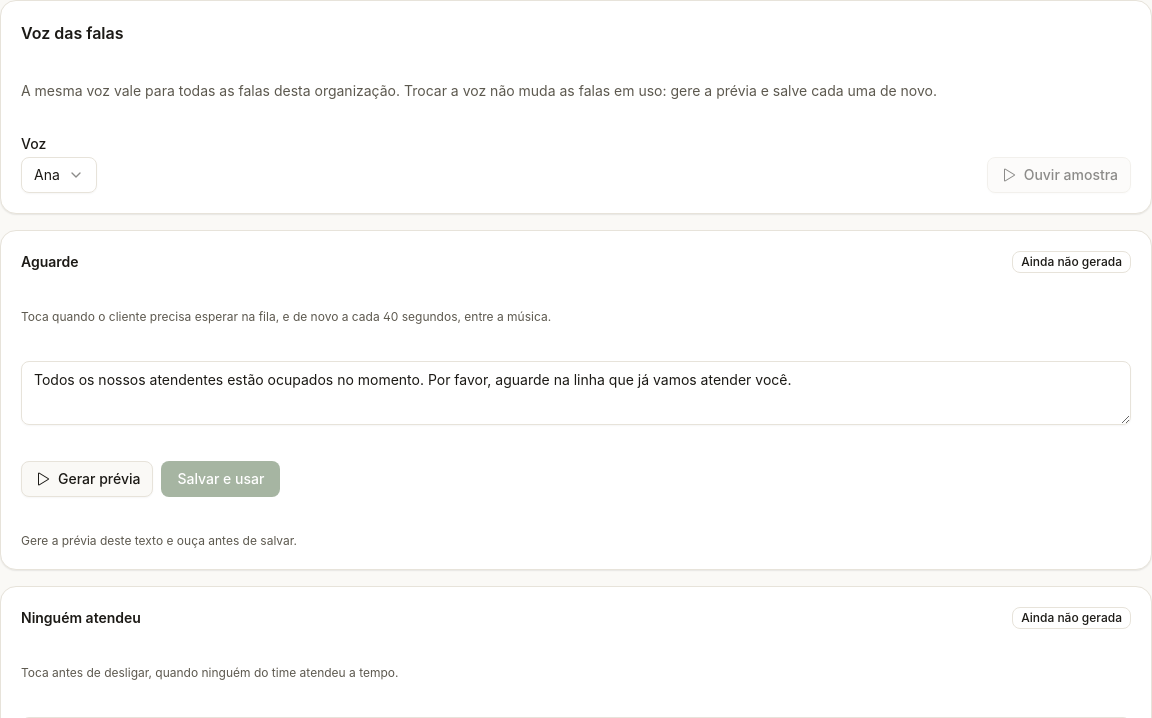
it: aba Voz e falas — gerar prévia, ouvir, salvar e usar › trocar a voz depois da prévia pede prévia de novo (o hash da prévia é da voz anterior)
Click the button "Gerar prévia".
click(87, 479)  # box [21, 461, 153, 497]
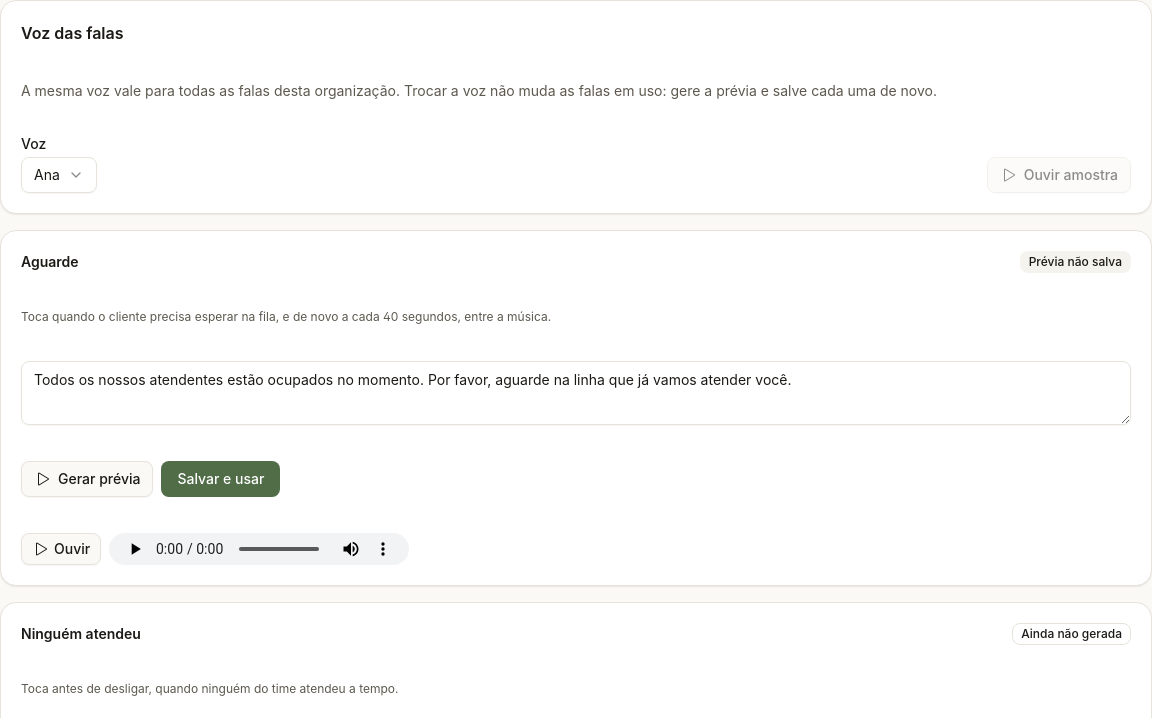
Result: the button "Salvar e usar" is enabled at [161, 461, 280, 497]
Click the dropdown named "Voz".
click(59, 175)  # box [21, 157, 97, 193]
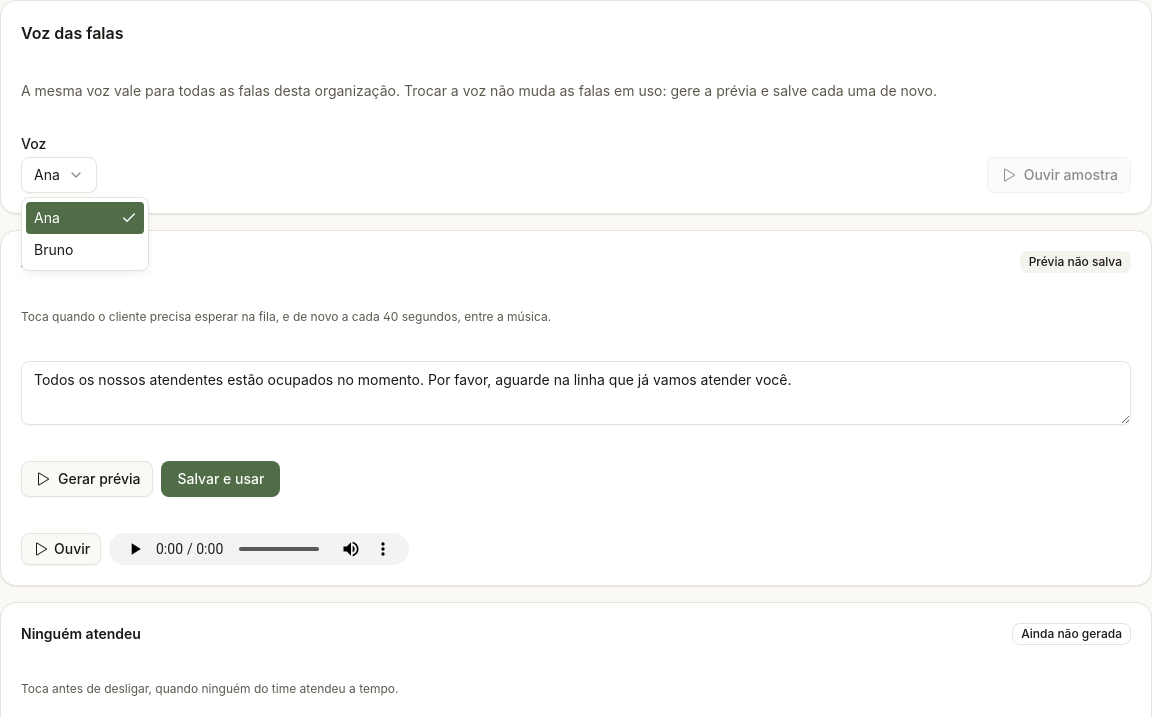
Click the option "Bruno".
click(54, 250)  # box [34, 241, 73, 258]
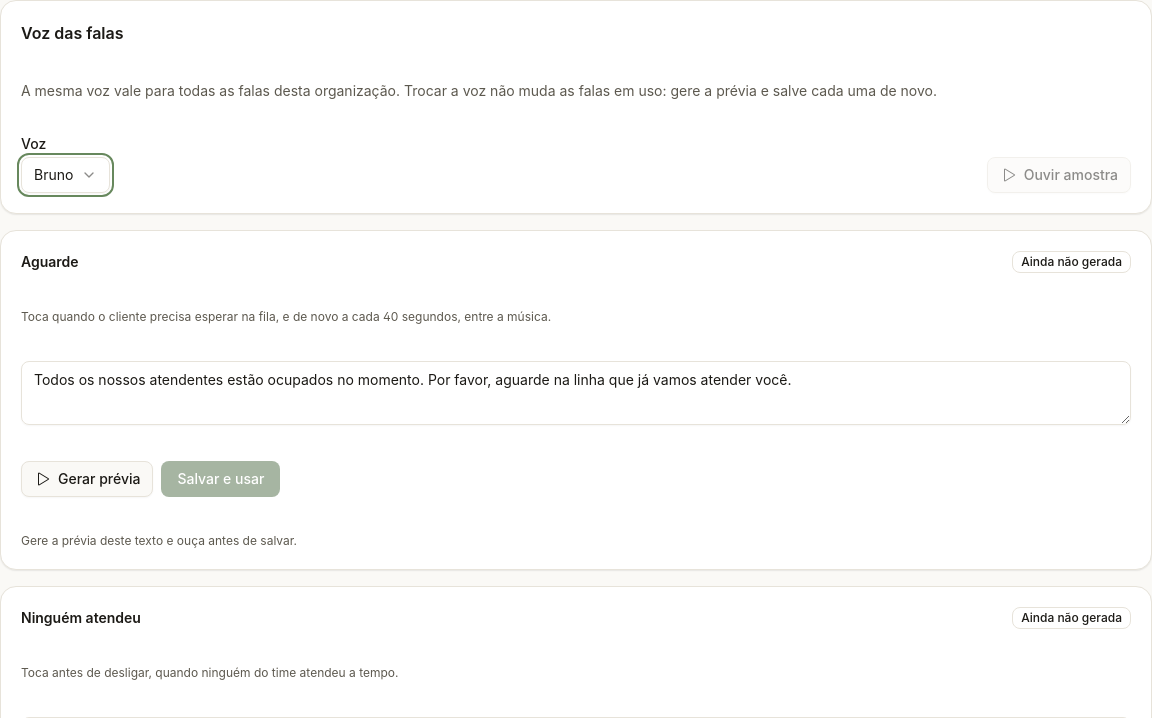
Result: the button "Salvar e usar" is disabled at [161, 461, 280, 497]
